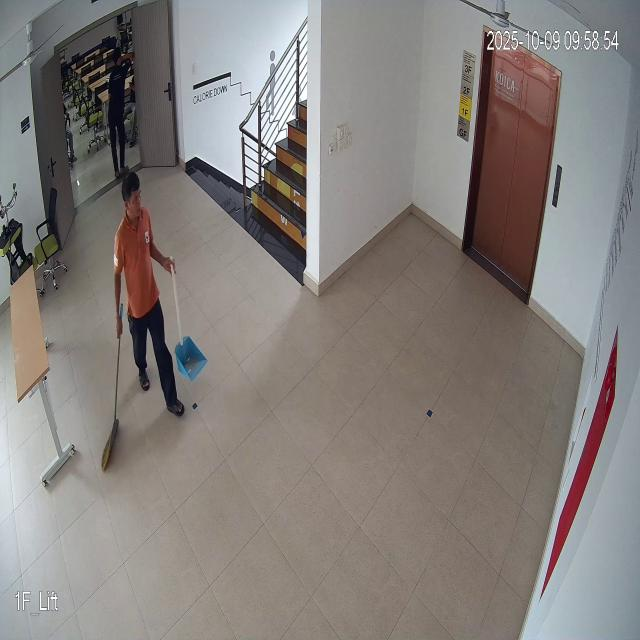face: (118, 167, 146, 222)
